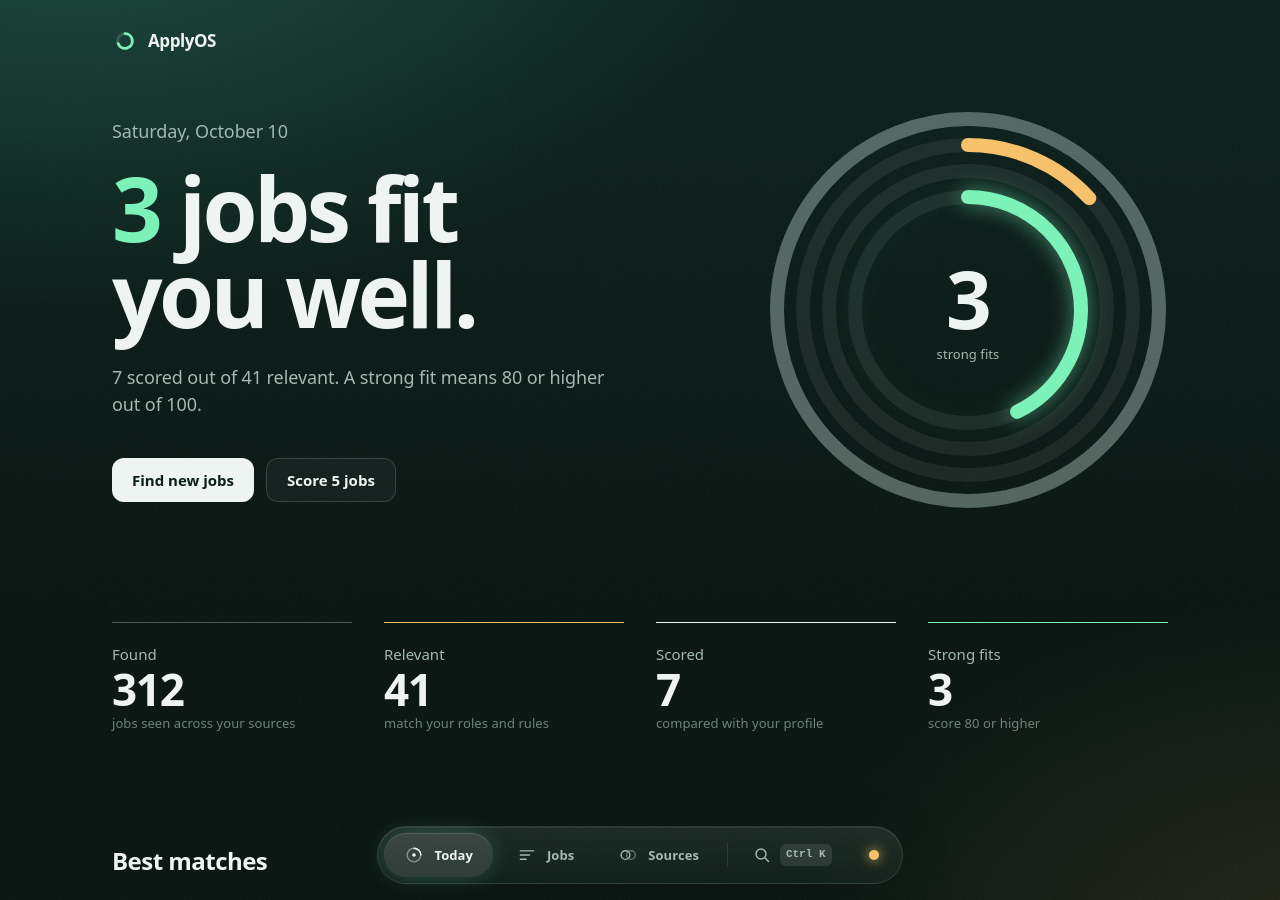
Today page › scores five jobs and confirms
Click the button "Score 5 jobs". click: click(331, 480)
box: [266,458,396,502]
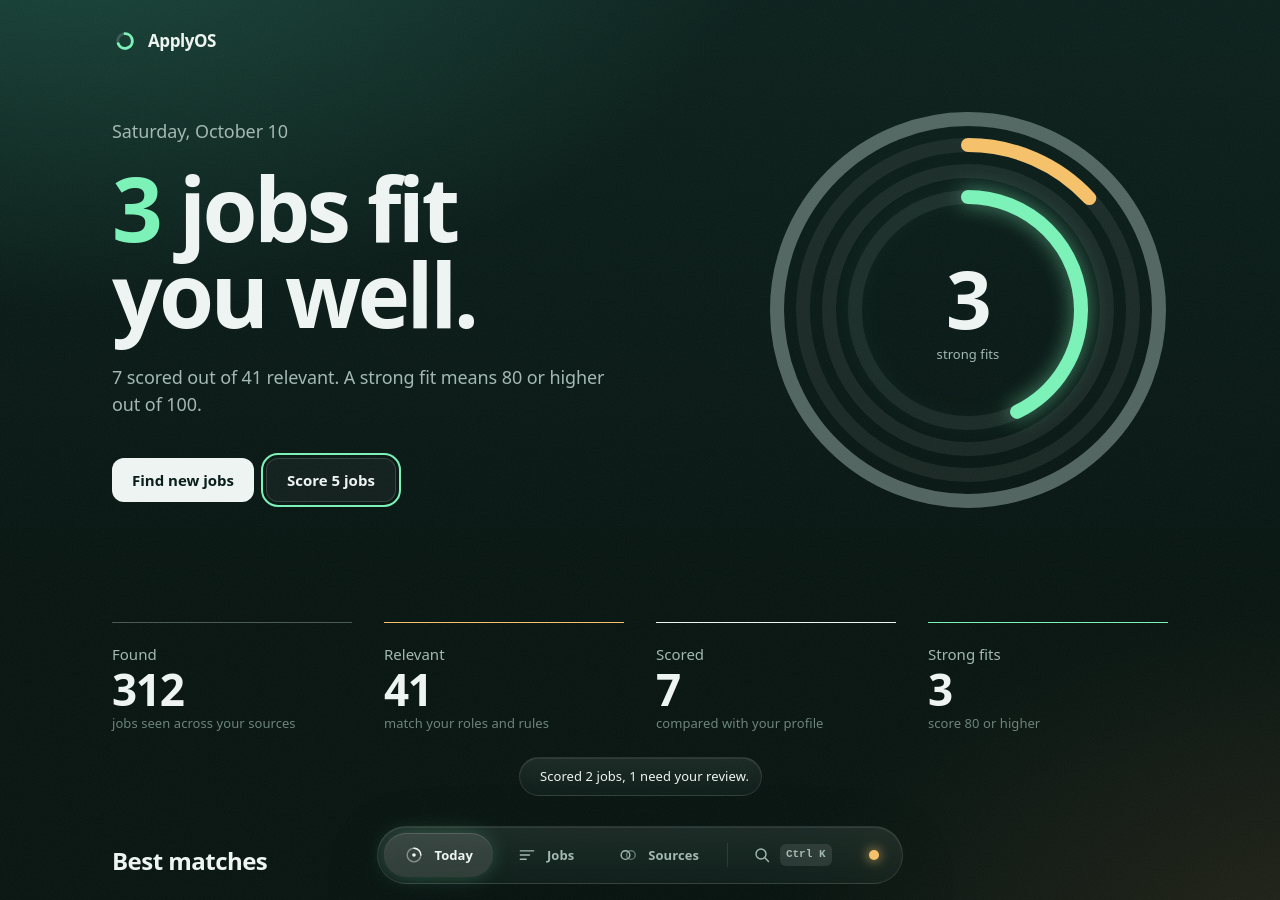
Check: the text "Scored 2 jobs, 1 need your review." is shown, box [540,768,748,785]
